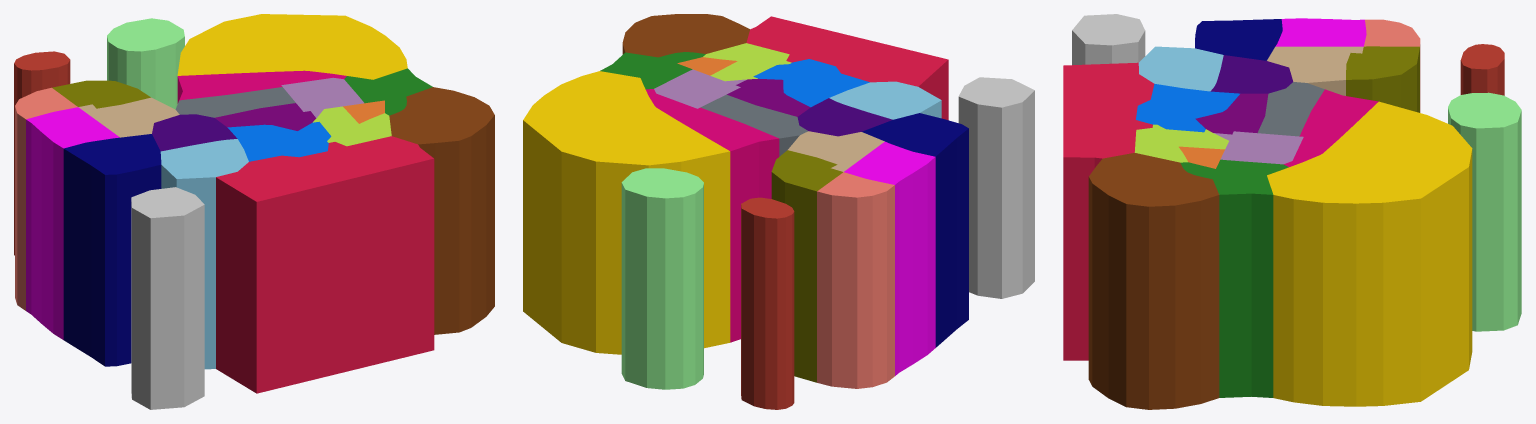
Rendered from Regiones.fbx.
3 views of the same model, side by side, from view 1: azimuth 30°, elevation 25°; view 2: azimuth 150°, elevation 25°; view 3: azimuth 270°, elevation 25° (orthographic). The views are drawn at different scales.
Parts seen in each view (by area): view 1: FortHorizon, PointStar, BayviewStadium, BeaconPoint, StVictorInternationalAirport, Oceanview, DocktownNorth, ParadiseKey, EastshorePalms, StVictorDistrict, HorizonCorner, BaylinkRest (+9 smaller); view 2: StVictorInternationalAirport, ParadiseKey, EastshorePalms, BeaconPoint, BaylinkRest, Oceanview, PointStar, FortHorizon, Pisgrave, StVictorDistrict, BayviewStadium, DocktownNorth (+9 smaller); view 3: StVictorInternationalAirport, BayviewStadium, WestMarket, FortHorizon, ParadiseKey, Pisgrave, BeaconPoint, HorizonCorner, StVictorDistrict, PointStar, DocktownNorth, Maravista (+9 smaller).
Part boxes in pixels (bbox=[...]): FortHorizon: bbox=[216, 136, 434, 393]; PointStar: bbox=[63, 134, 161, 366]; BayviewStadium: bbox=[389, 87, 494, 334]; BeaconPoint: bbox=[131, 187, 204, 409]; StVictorInternationalAirport: bbox=[177, 14, 407, 79]; Oceanview: bbox=[26, 107, 119, 339]; DocktownNorth: bbox=[160, 139, 248, 369]; ParadiseKey: bbox=[107, 18, 184, 109]; EastshorePalms: bbox=[15, 87, 77, 310]; StVictorDistrict: bbox=[177, 70, 346, 103]; HorizonCorner: bbox=[227, 121, 331, 161]; BaylinkRest: bbox=[14, 51, 70, 255]; StVictorInternationalAirport: bbox=[523, 71, 730, 354]; ParadiseKey: bbox=[621, 168, 703, 389]; EastshorePalms: bbox=[817, 172, 894, 388]; BeaconPoint: bbox=[958, 77, 1034, 298]; BaylinkRest: bbox=[741, 197, 794, 409]; Oceanview: bbox=[844, 141, 935, 375]; PointStar: bbox=[862, 113, 968, 347]; FortHorizon: bbox=[746, 16, 948, 120]; Pisgrave: bbox=[771, 150, 842, 382]; StVictorDistrict: bbox=[645, 89, 779, 342]; BayviewStadium: bbox=[622, 14, 749, 57]; DocktownNorth: bbox=[829, 81, 941, 119]; StVictorInternationalAirport: bbox=[1267, 101, 1472, 406]; BayviewStadium: bbox=[1088, 153, 1219, 409]; WestMarket: bbox=[1180, 159, 1288, 397]; FortHorizon: bbox=[1063, 62, 1154, 360]; ParadiseKey: bbox=[1448, 92, 1521, 331]; Pisgrave: bbox=[1346, 46, 1419, 112]; BeaconPoint: bbox=[1072, 14, 1145, 65]; HorizonCorner: bbox=[1136, 83, 1239, 132]; StVictorDistrict: bbox=[1284, 89, 1378, 167]; PointStar: bbox=[1195, 19, 1282, 60]; DocktownNorth: bbox=[1138, 46, 1223, 91]; Maravista: bbox=[1267, 46, 1363, 95].
Size of the model in its own units: 193578 by 95147 by 194568.
